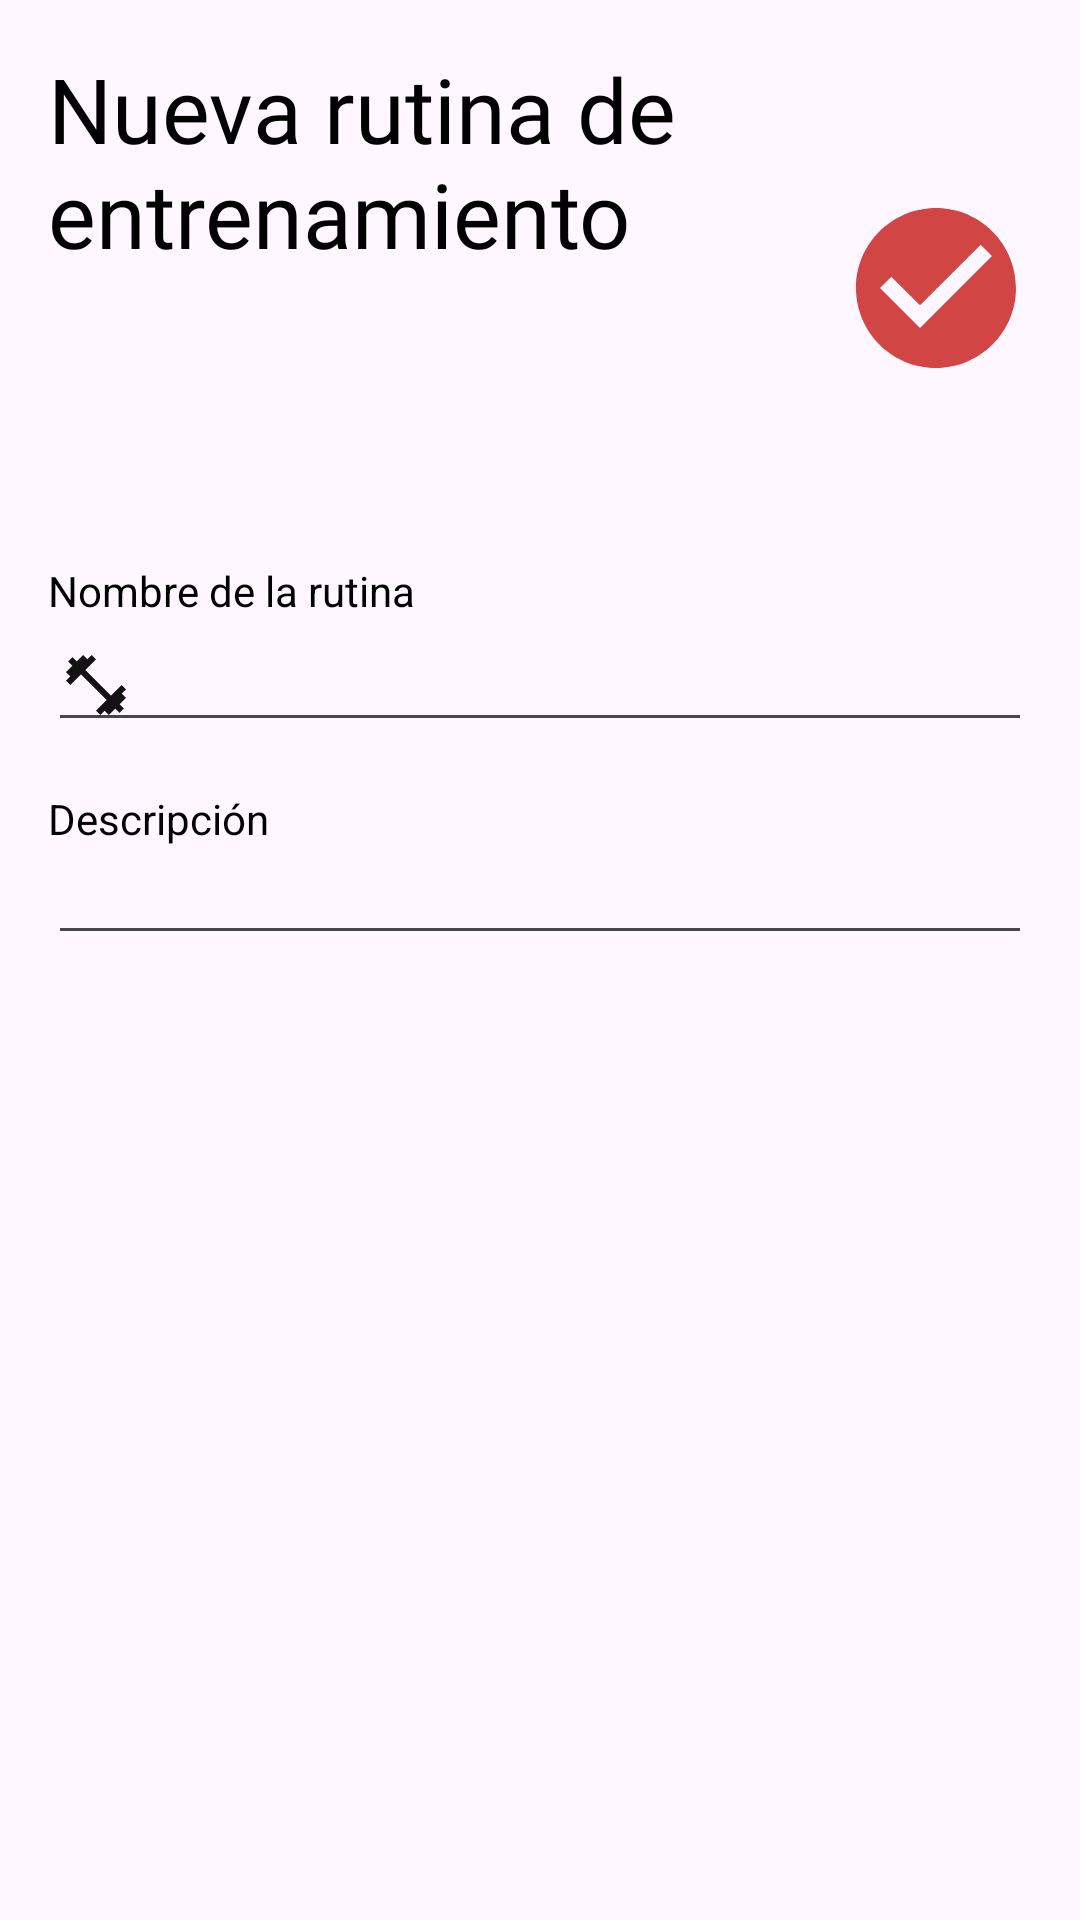

Named icons in this screenshot (1080px×1920px) and their centers, point (x, y):
accept edit: point (936, 288)
